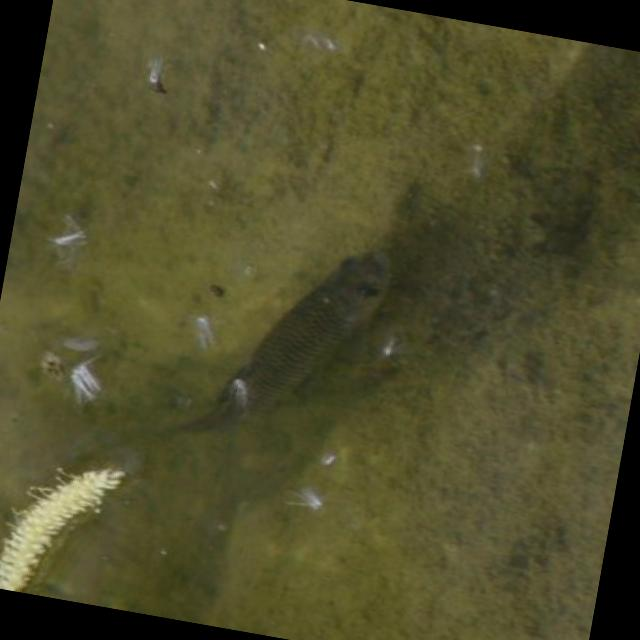Cakil Baligi: (168, 216, 408, 468)
